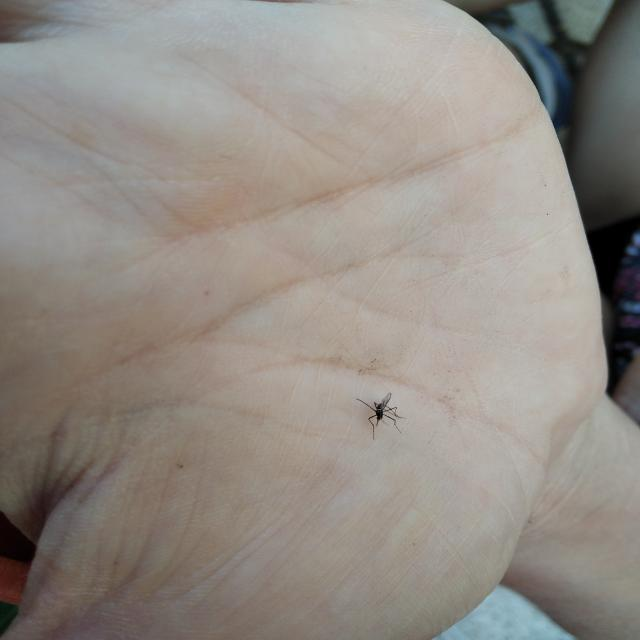albopictus: (347, 390, 412, 436)
